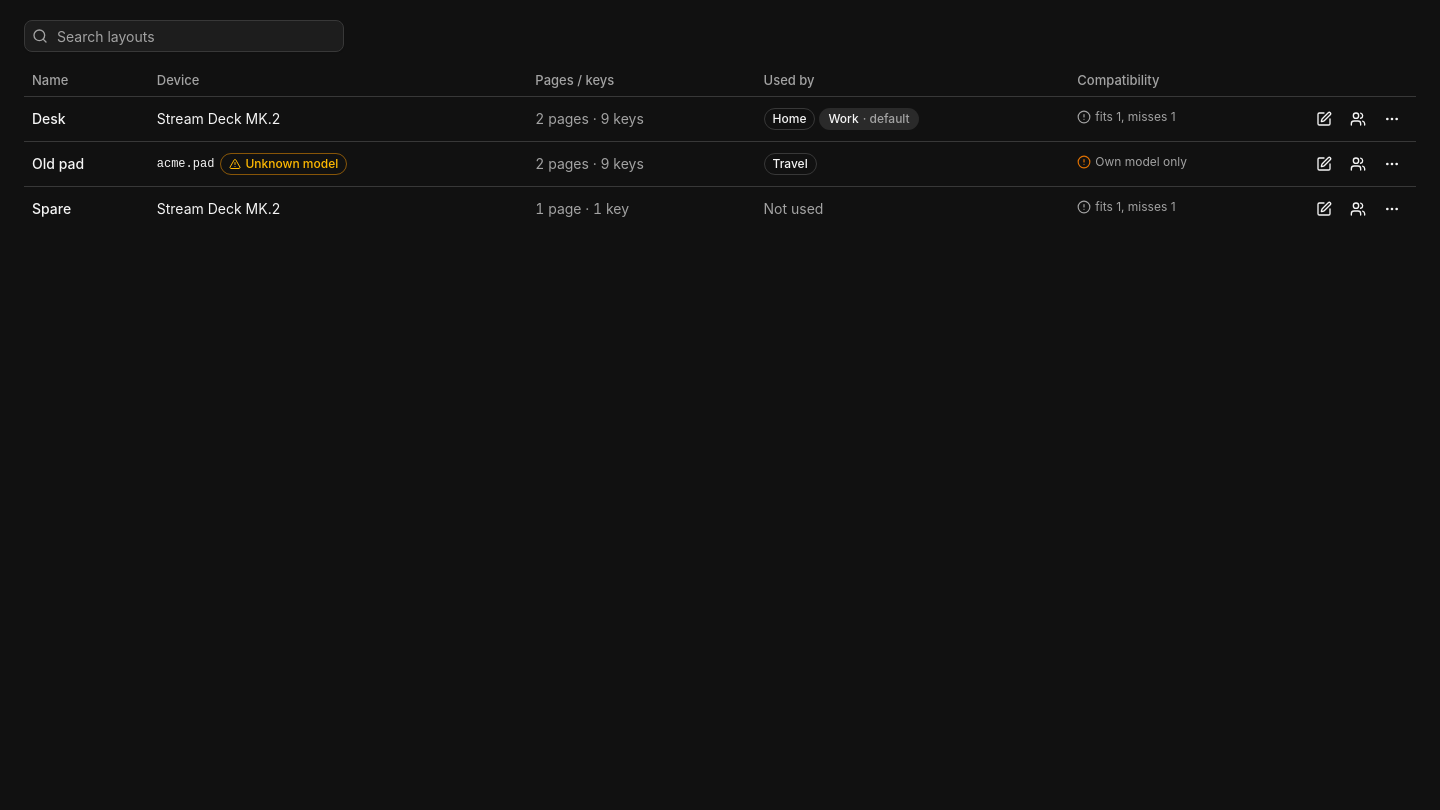
Test: Layouts page › keeps the rename dialog open and shows a refusal inline
Expected: the table is shown, [24, 64, 1416, 230]
Click the button named "More actions for Desk".
click(1392, 118)  # box [1376, 102, 1408, 134]
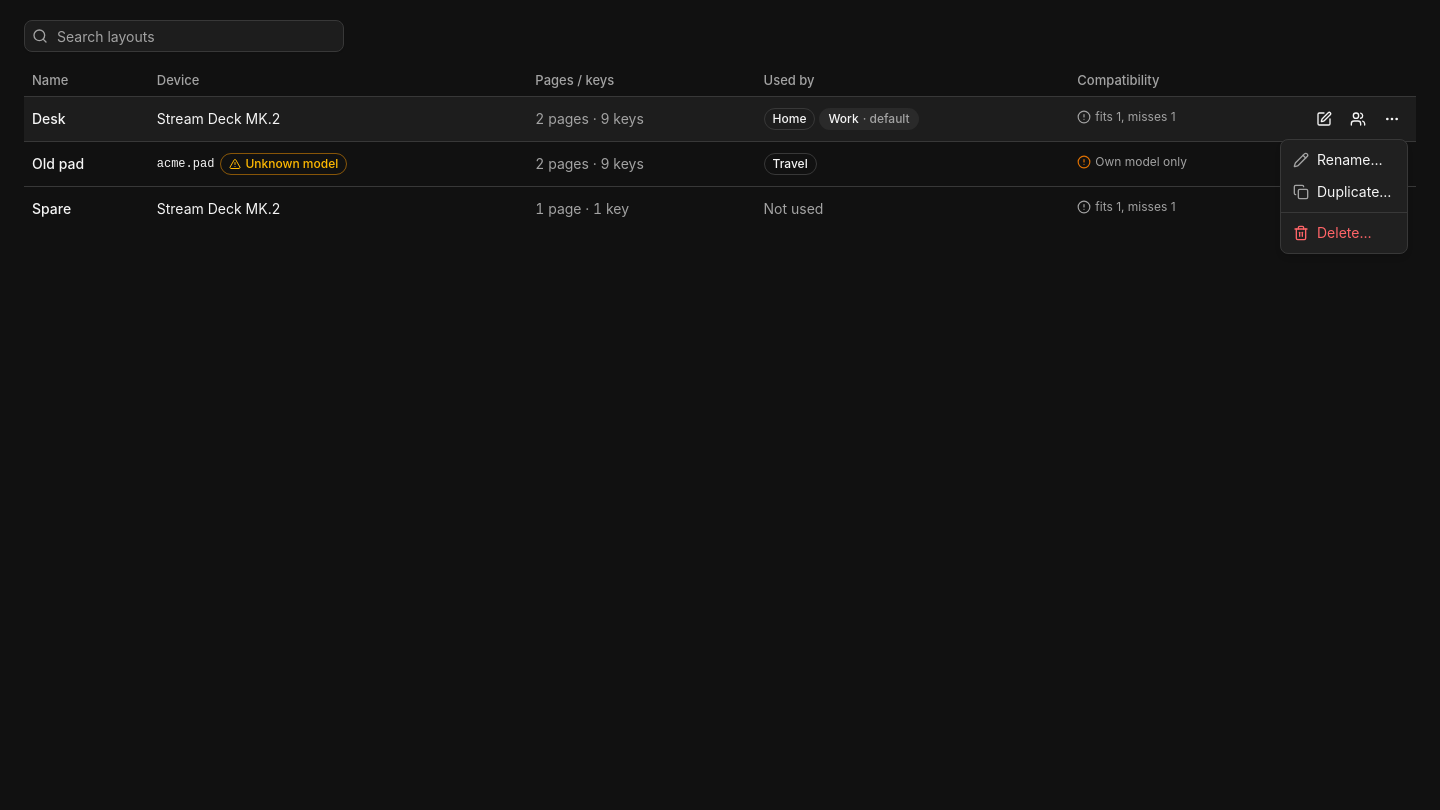
Click the menu item "Rename…".
click(1338, 160)  # box [1293, 151, 1383, 168]
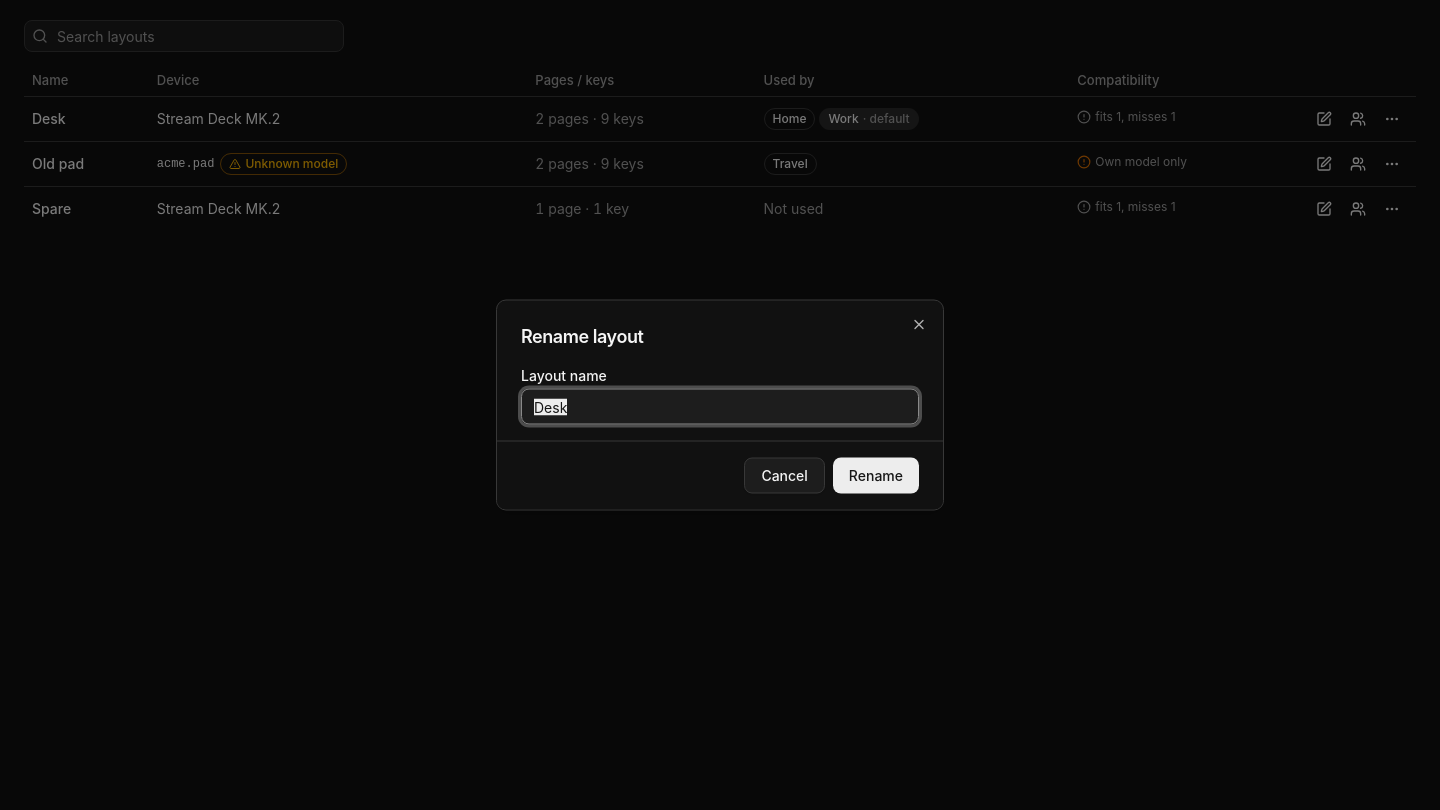
Replace the text in the field labelled "Layout name" with "Spare" at (720, 406), box [521, 388, 919, 424]
Then press Enter
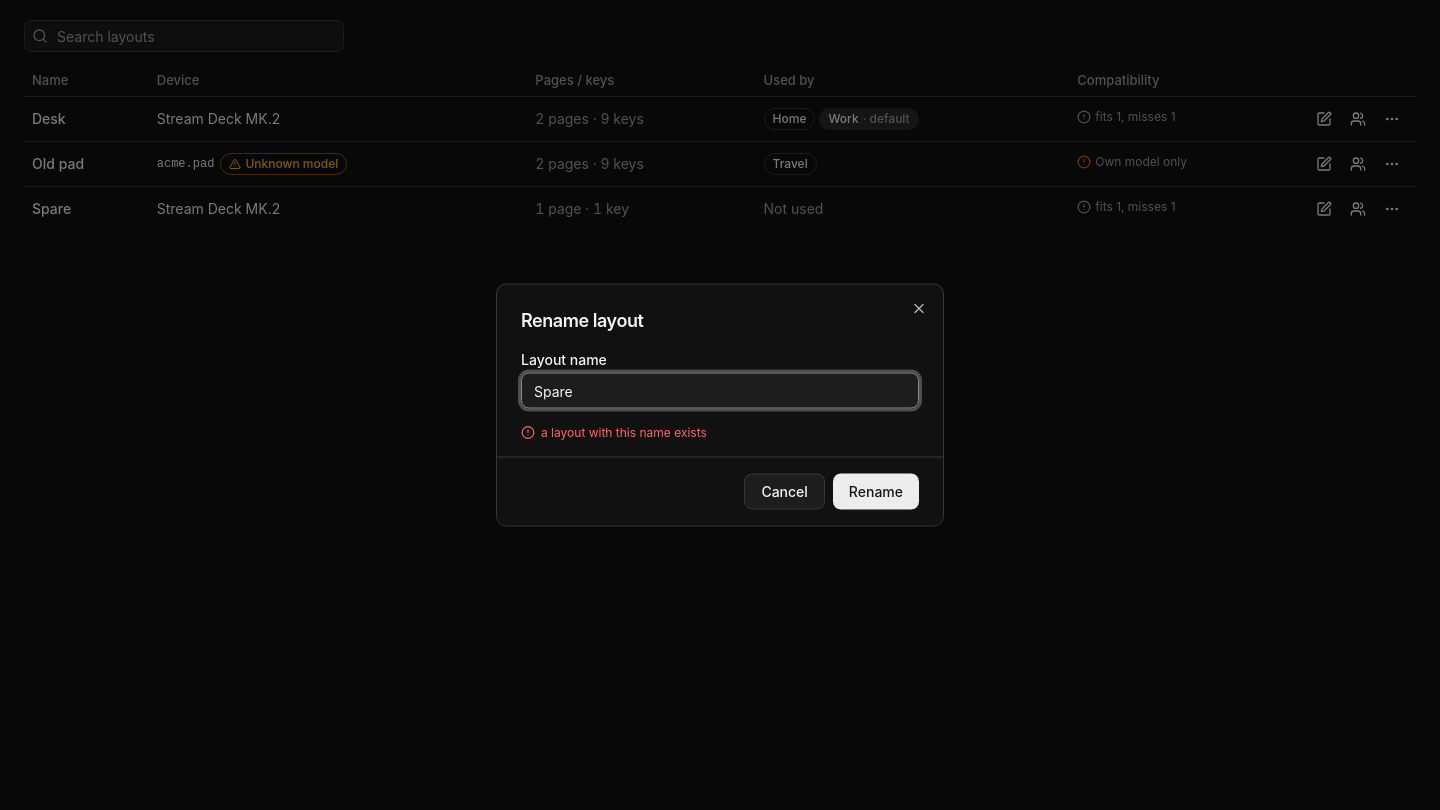
Expected: the text "a layout with this name exists" is shown, [541, 424, 707, 440]
# Cancel with a changed name asks before discarding it.
Click the button "Cancel".
click(785, 492)  # box [744, 474, 825, 510]
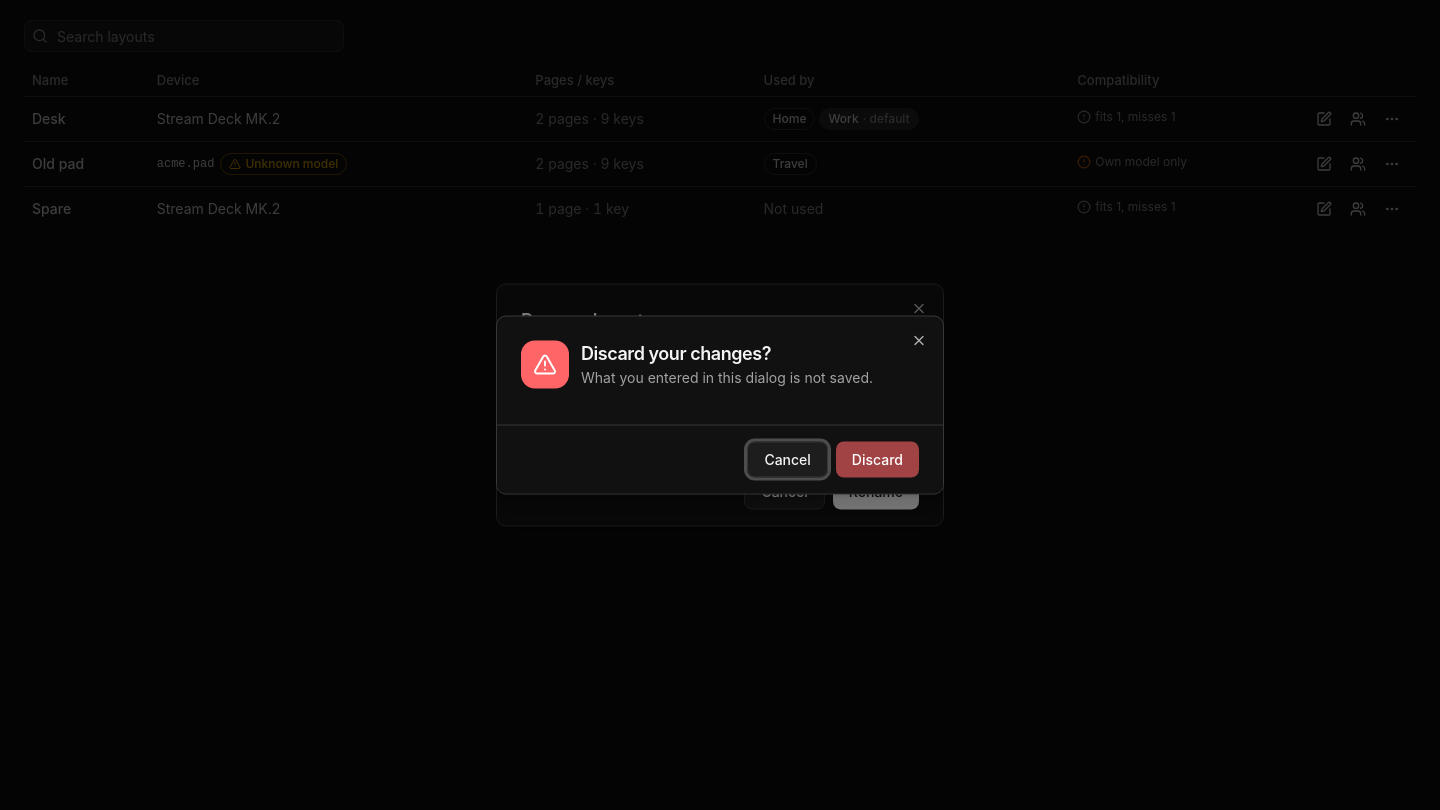
Click the button "Discard".
click(877, 460)  # box [836, 442, 919, 478]
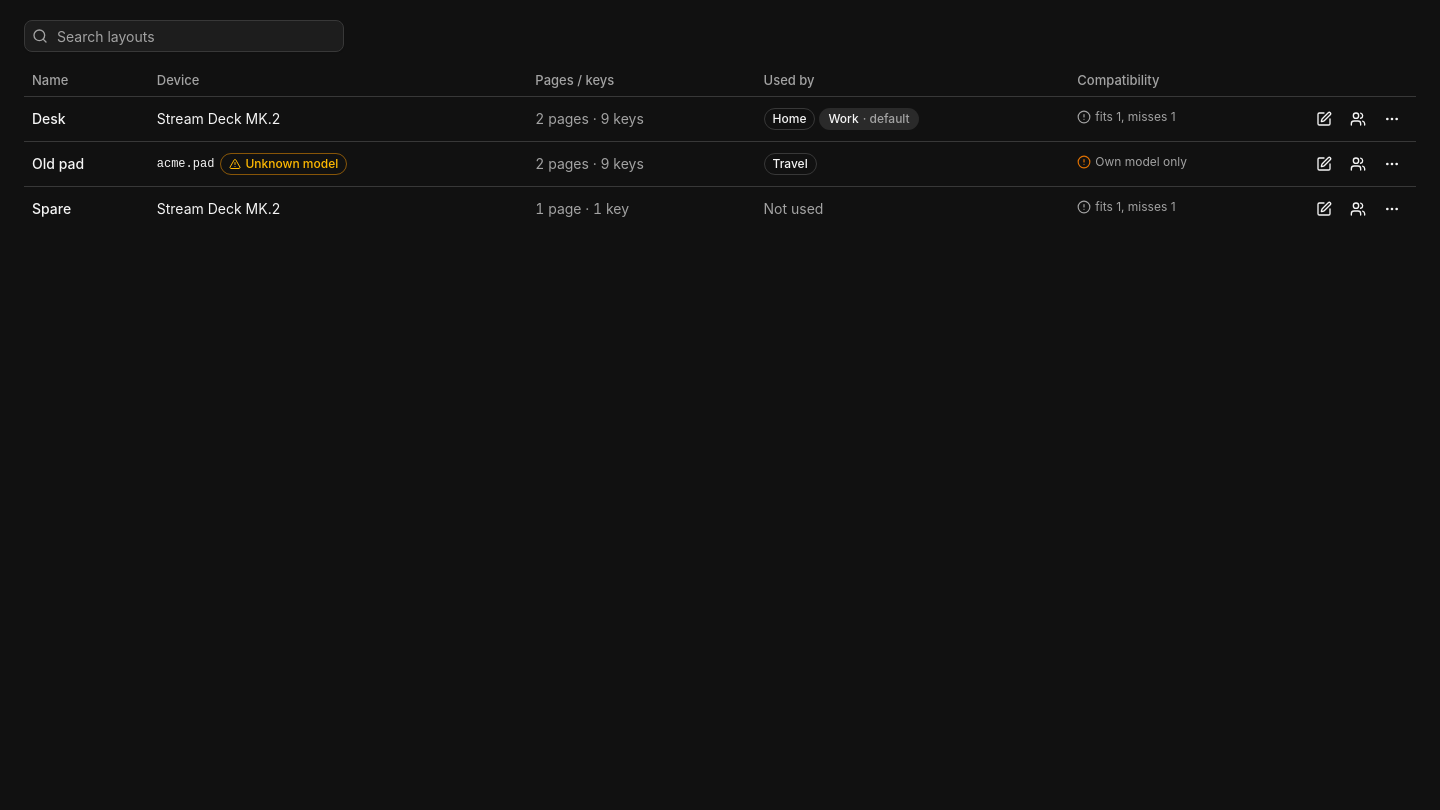
Expected: the heading "Rename layout" is gone
